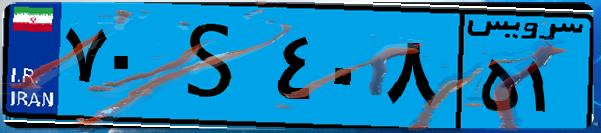0: (330, 28, 385, 110), (110, 28, 158, 98)
1: (525, 38, 570, 115)
4: (270, 28, 330, 110)
5: (475, 38, 525, 113)
7: (57, 26, 110, 100)
8: (385, 28, 445, 110)
S: (158, 12, 270, 120)
